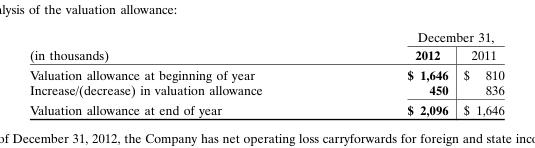table: (28, 28, 503, 117)
table column: (28, 28, 334, 117), (334, 28, 455, 117), (455, 28, 503, 117)
table column header: (28, 28, 503, 64)
table row: (28, 45, 503, 64), (28, 81, 503, 99), (28, 99, 503, 117), (28, 28, 503, 45), (28, 64, 503, 81)
table spanning cell: (28, 28, 334, 64), (334, 28, 503, 45)
